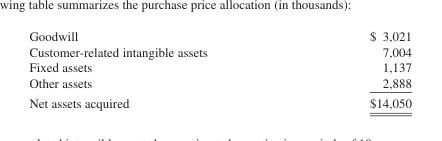table: (28, 28, 410, 110)
table column: (28, 28, 287, 110), (287, 28, 410, 110)
table row: (28, 74, 410, 92), (28, 92, 410, 110), (28, 43, 410, 59), (28, 28, 410, 43), (28, 59, 410, 74)
